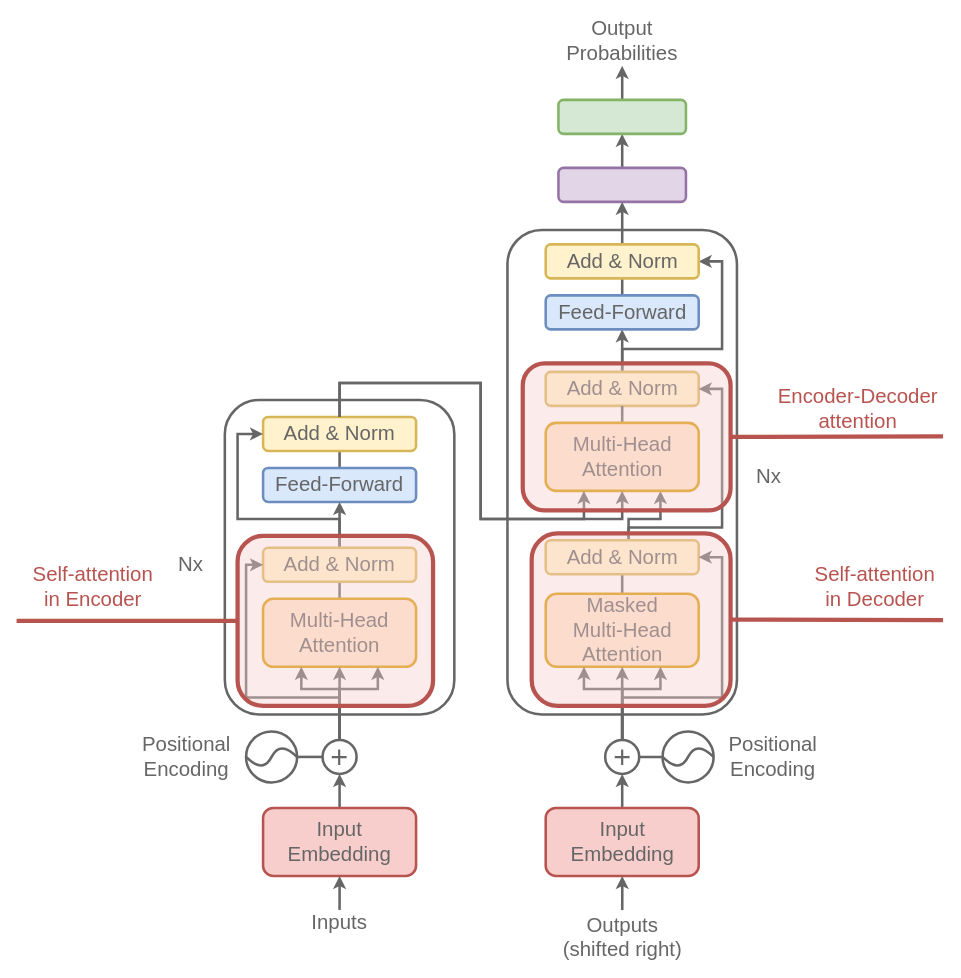
The diagram is 961 pixels wide and 978 high, and some of its shapes have lost their labels. Each missing label, with the centre of its shape:
Linear: point (622, 184)
Softmax: point (622, 116)
